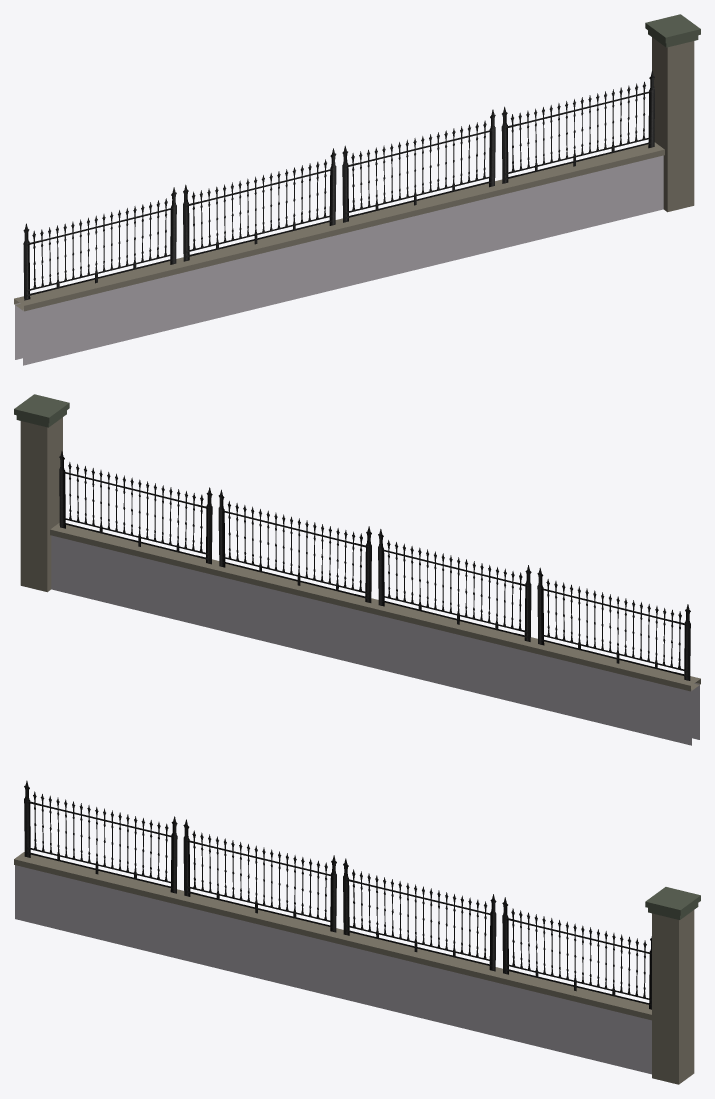
File: Fences 1.fbx
3 renders of one model, top to bottom at view 1: azimuth 30°, elevation 25°; view 2: azimuth 150°, elevation 25°; view 3: azimuth 330°, elevation 25°, orthographic.
Visible parts, largest first — view 1: Fence, FenceCorner; view 2: Fence, FenceCorner; view 3: Fence, FenceCorner.
Boxes of the visible parts, bbox=[...] form: Fence: bbox=[14, 70, 664, 365]; FenceCorner: bbox=[645, 14, 700, 212]; Fence: bbox=[50, 451, 700, 745]; FenceCorner: bbox=[14, 394, 69, 592]; Fence: bbox=[14, 780, 651, 1074]; FenceCorner: bbox=[645, 887, 700, 1084].
Bounding box in the file's own units: 1258 × 317 × 66.
